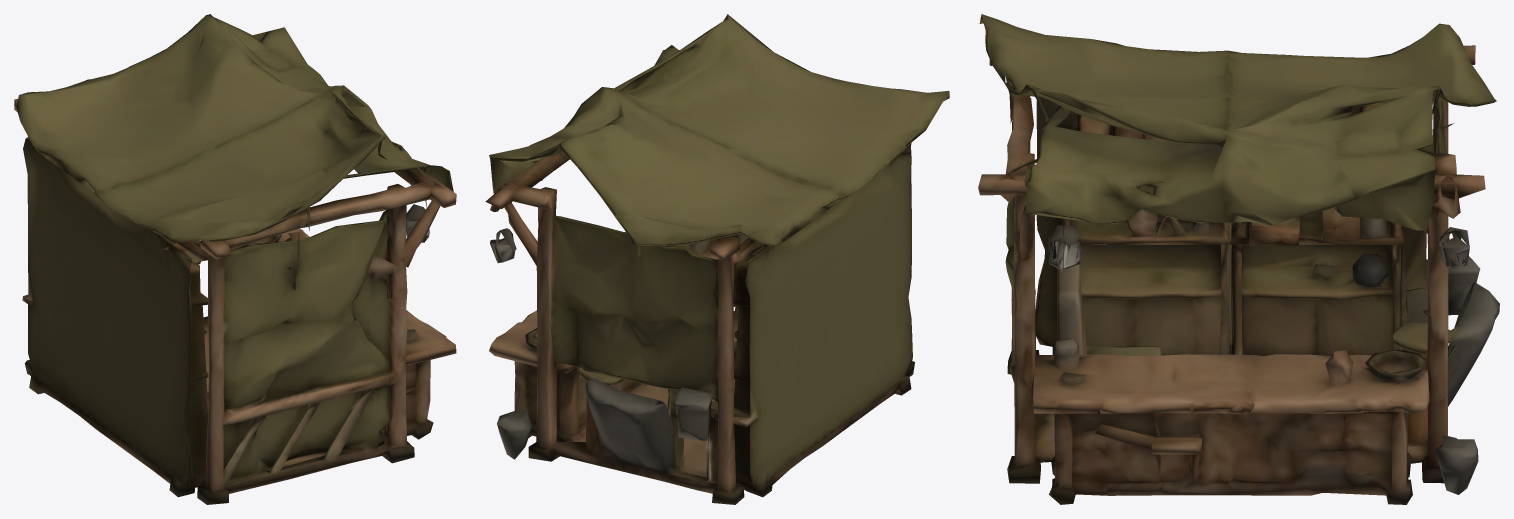
Rendered from market_stall.0cd886705d.glb.
3 views of the same model, side by side, from view 1: azimuth 30°, elevation 25°; view 2: azimuth 150°, elevation 25°; view 3: azimuth 270°, elevation 25° (orthographic). The views are drawn at different scales.
Visible parts, largest first — view 1: market_stall; view 2: market_stall; view 3: market_stall.
Boxes of the visible parts, x1=… form: market_stall: x1=14, y1=14, x2=456, y2=504; market_stall: x1=485, y1=14, x2=949, y2=504; market_stall: x1=978, y1=14, x2=1499, y2=504.
Bounding box in the file's own units: 1.97 × 2.12 × 2.6.
Materials: 1 (1 with a texture image).
